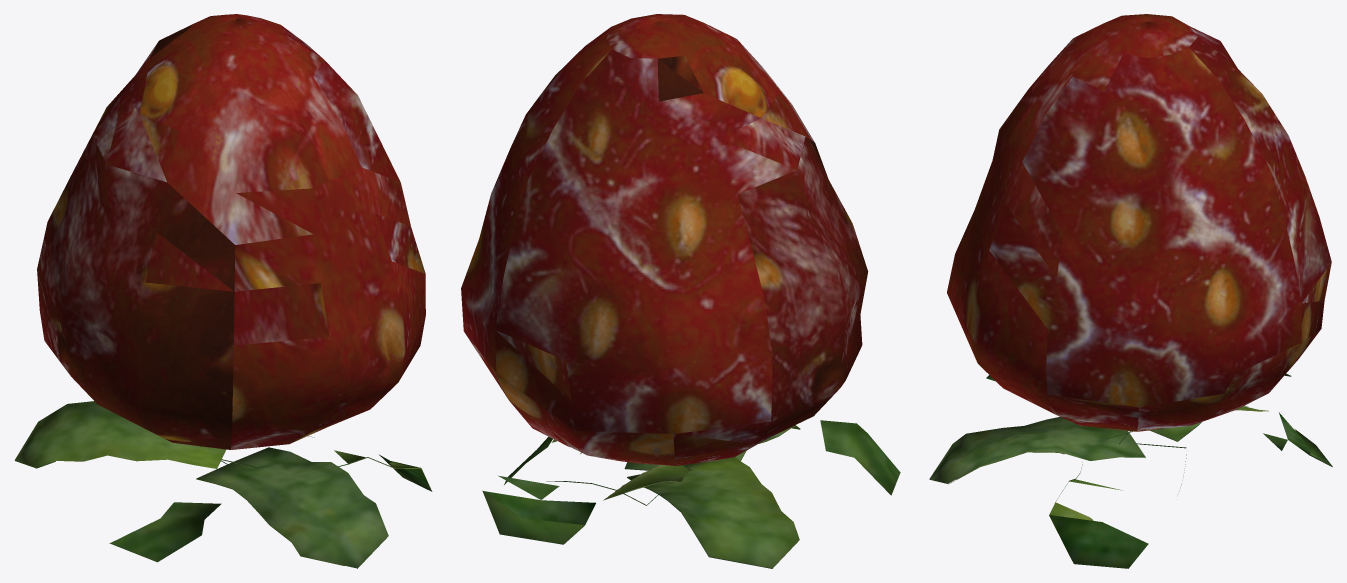
The picture shows the model from 3 angles, left to right: view 1: azimuth 30°, elevation 25°; view 2: azimuth 150°, elevation 25°; view 3: azimuth 270°, elevation 25°; orthographic projection. The views are drawn at different scales.
Parts seen in each view (by area): view 1: leaf3; view 2: leaf3; view 3: leaf3.
Boxes of the visible parts, bbox=[...] form: leaf3: bbox=[14, 14, 432, 568]; leaf3: bbox=[461, 14, 900, 568]; leaf3: bbox=[929, 14, 1332, 568].
Size of the model in its own units: 0.0426 by 0.0453 by 0.0587.
